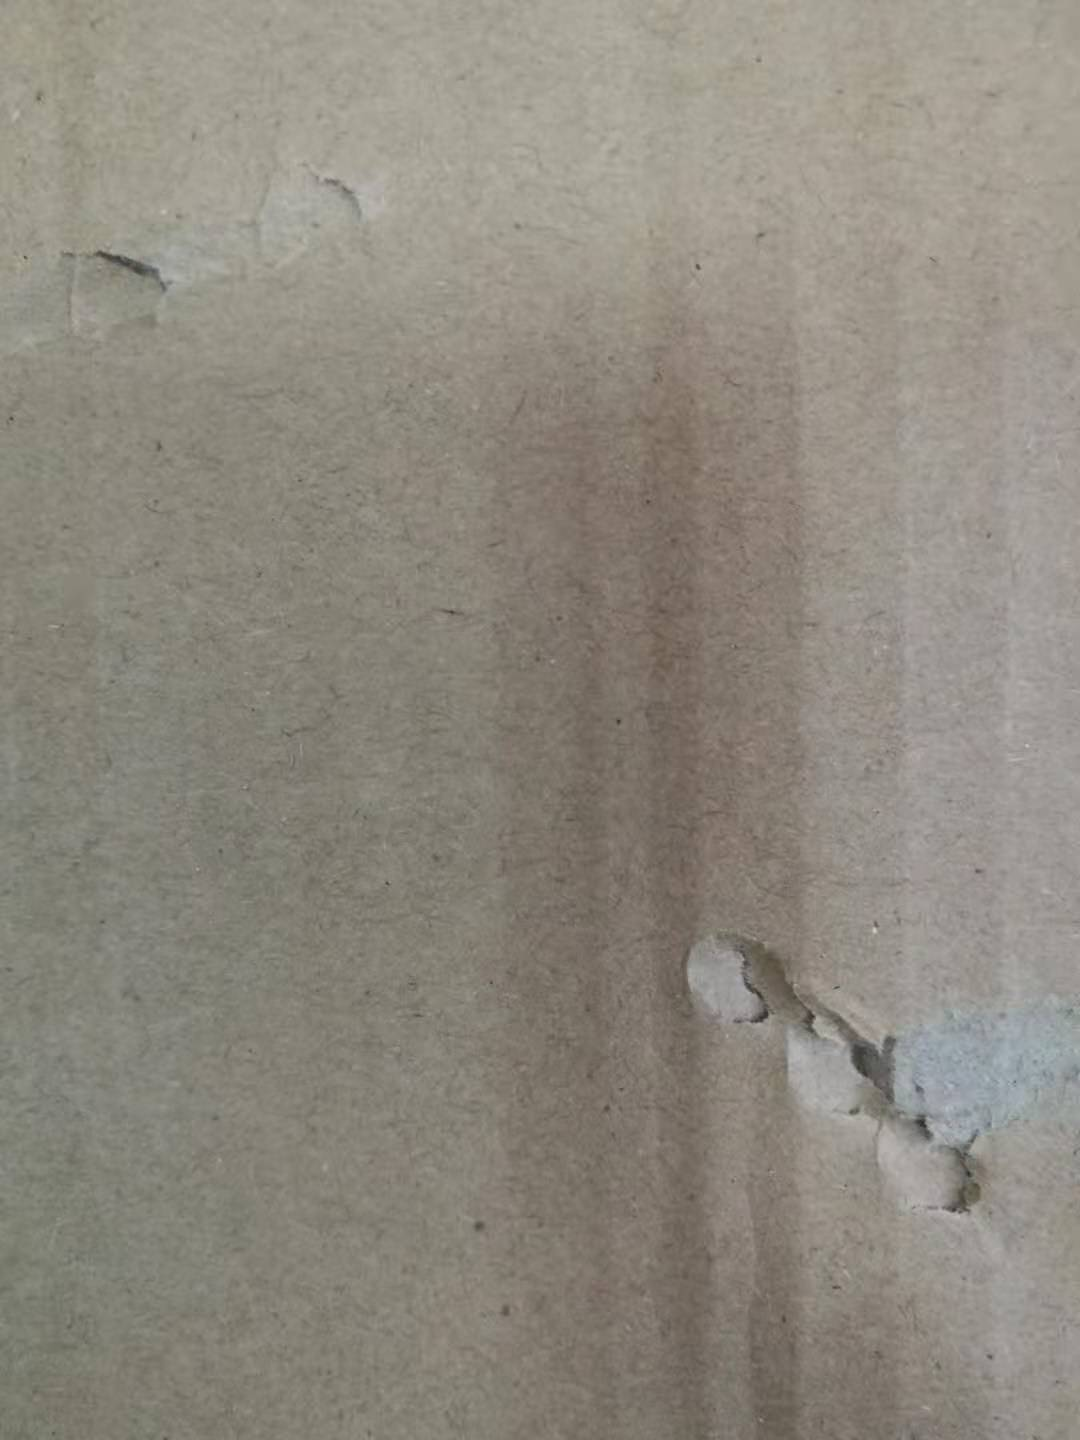defect: (602, 392, 845, 1440), (652, 892, 1080, 1261), (1, 149, 420, 376)
